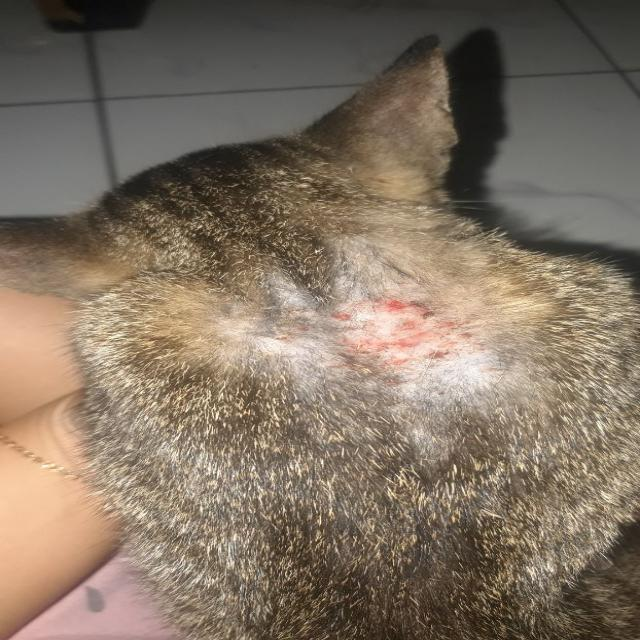hac lao: (284, 231, 502, 448)
